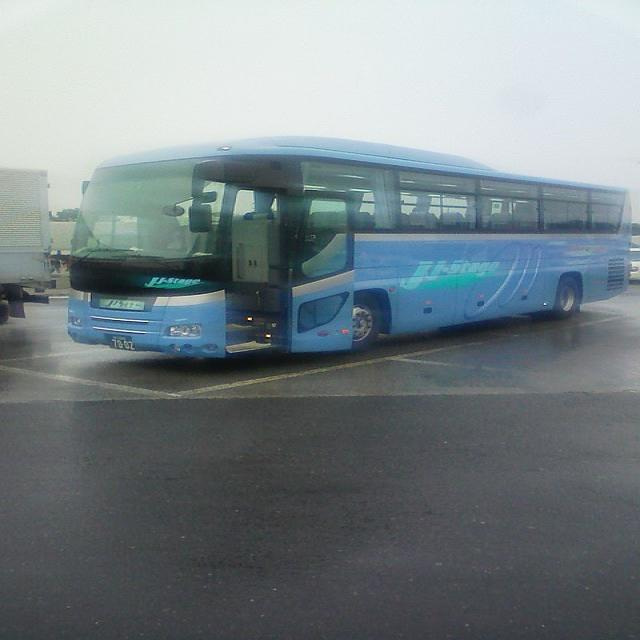Bus: (63, 138, 625, 355), (0, 168, 55, 318), (628, 220, 640, 280)
